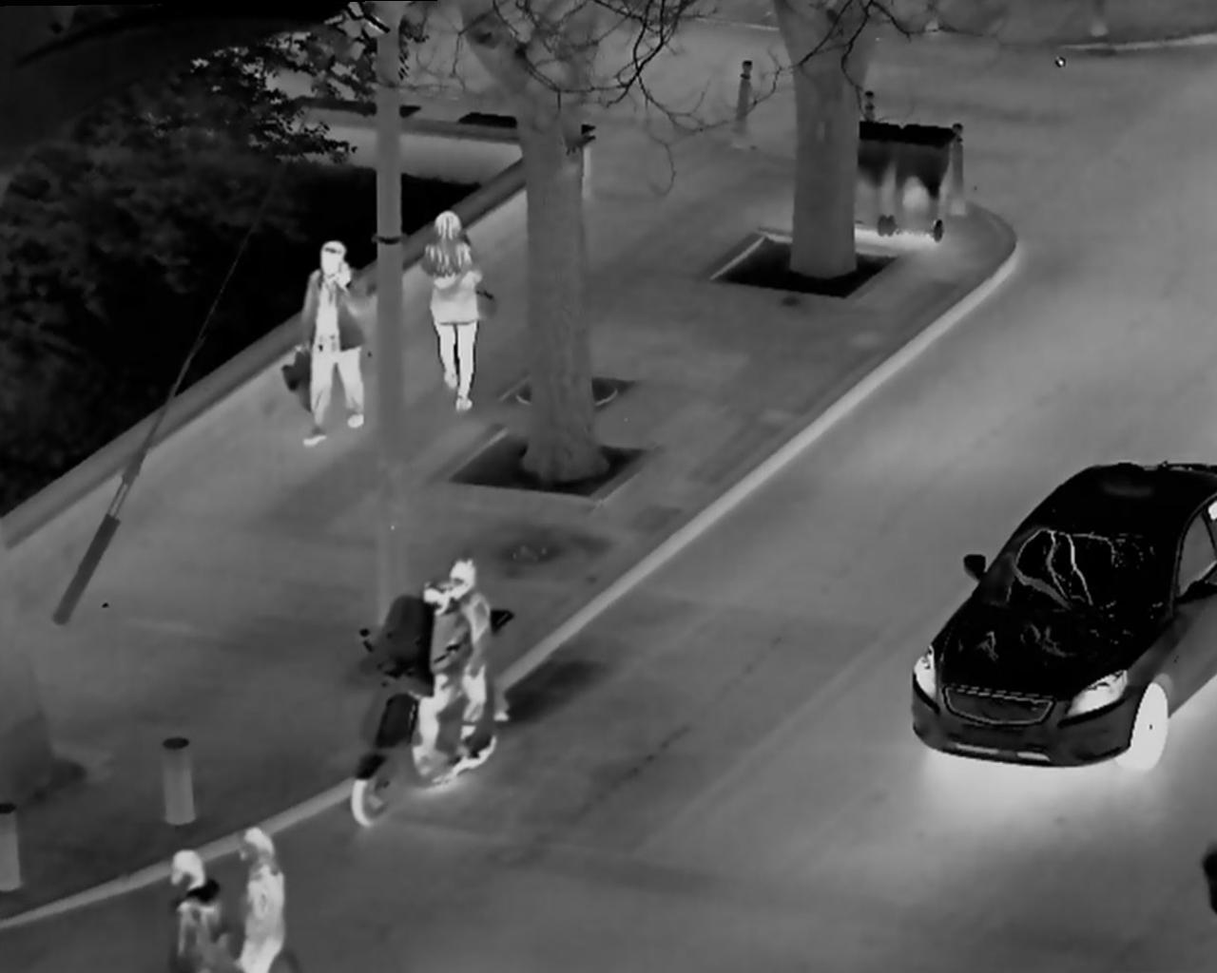person: (380, 571, 458, 801), (413, 198, 497, 406), (433, 548, 506, 778), (296, 228, 371, 448), (217, 824, 319, 973), (157, 834, 230, 973)
